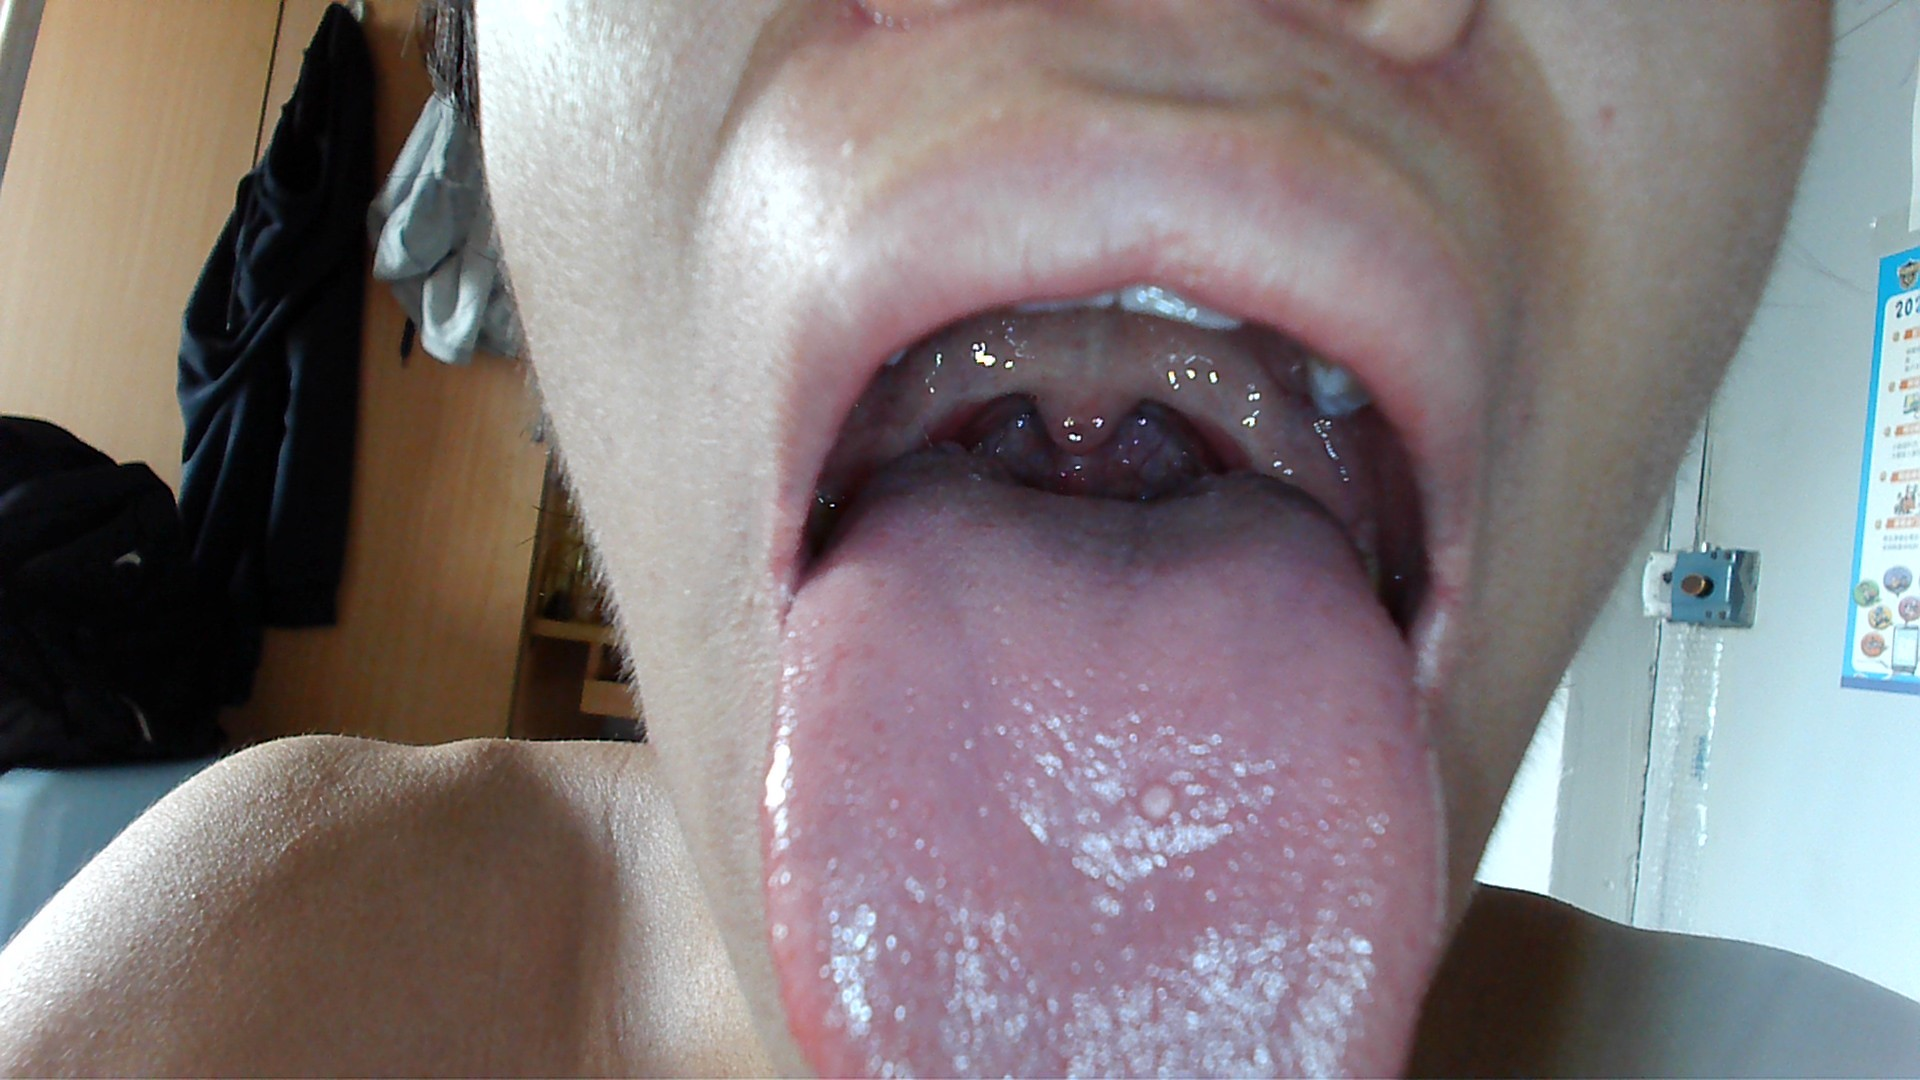throat: (1182, 340, 1262, 472), (890, 376, 982, 444)
